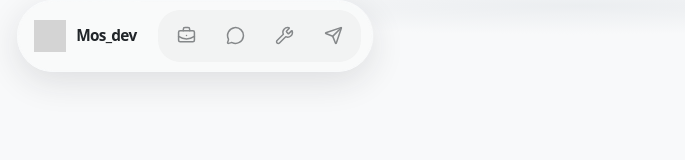
it: MagnifyingDock › marks the chosen section as active
This screenshot has width=685, height=160.
Click the link named "Contact": (333, 36) [324,26,343,45]
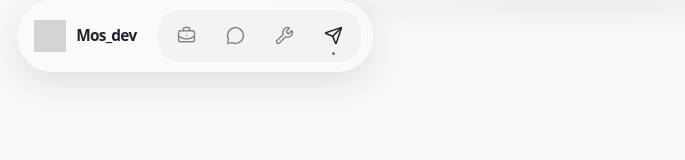
Expected: the link named "Contact" has attribute aria-current="location", [324,26,343,55]
Expected: the link named "Contact" has attribute data-active="true", [324,26,343,55]
